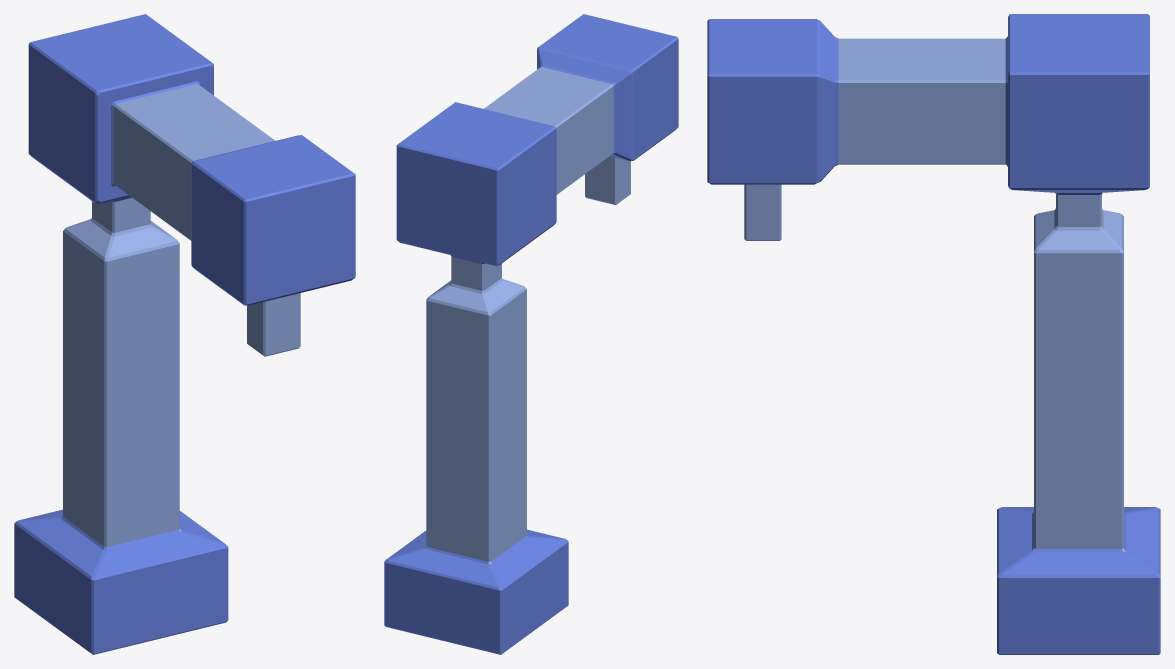
The model's file is Extra 4.fbx.
3 views of the same model, side by side, from view 1: azimuth 30°, elevation 25°; view 2: azimuth 150°, elevation 25°; view 3: azimuth 270°, elevation 25° (orthographic). The views are drawn at different scales.
Parts seen in each view (by area): view 1: Extra 4; view 2: Extra 4; view 3: Extra 4.
Boxes of the visible parts, x1,y1,x2,y2 form: Extra 4: (14, 14, 355, 654); Extra 4: (384, 14, 678, 654); Extra 4: (707, 14, 1160, 654).
Bounding box in the file's own units: 80.13 × 312 × 222.
